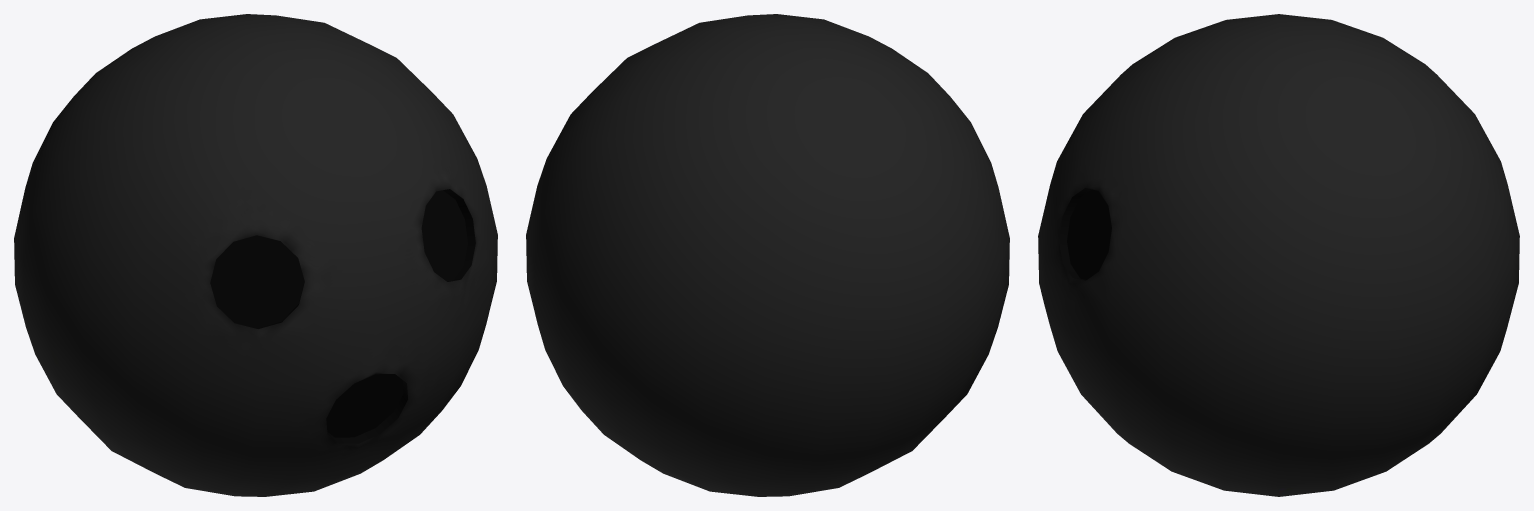
Rendered from BallModel.fbx.
3 views of the same model, side by side, from view 1: azimuth 30°, elevation 25°; view 2: azimuth 150°, elevation 25°; view 3: azimuth 270°, elevation 25° (orthographic).
Parts seen in each view (by area): view 1: BallModel; view 2: BallModel; view 3: BallModel.
Boxes of the visible parts, x1,y1,x2,y2 form: BallModel: (14, 14, 497, 496); BallModel: (526, 14, 1009, 496); BallModel: (1038, 14, 1519, 496).
Size of the model in its own units: 13.47 by 13.52 by 13.47.
1 material, 1 textured.
